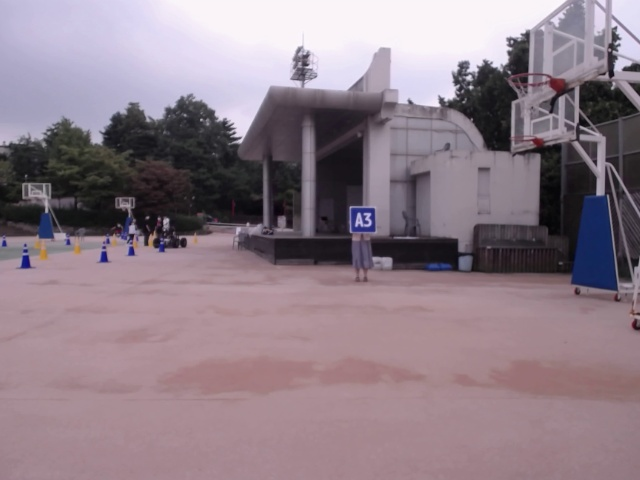delivery_a3: (349, 206, 377, 233)
